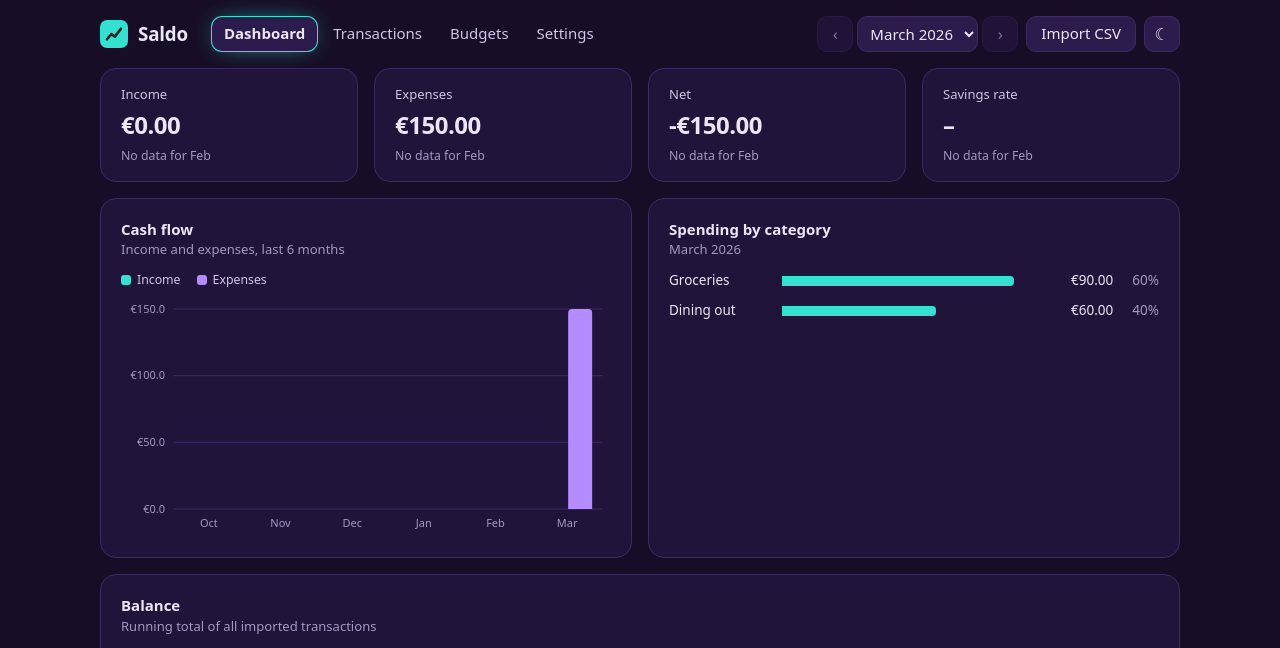
Test case: adds a budget for a category without one
The image size is (1280, 648).
Step 1. Click the button "Budgets" → (479, 34), box [438, 17, 520, 51]
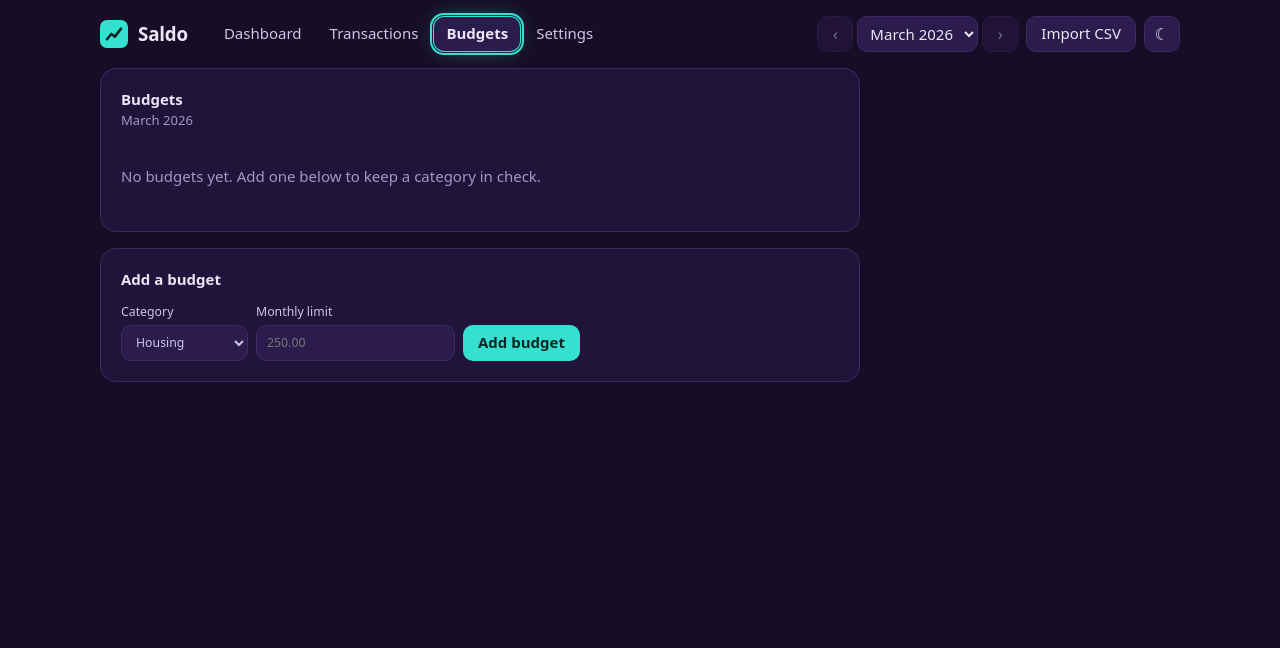
Expected: the text "No budgets yet. Add one below to keep a category in check." is shown, [121, 166, 541, 186]
Step 2. Click the button "Add budget" → (522, 343), box [463, 325, 580, 361]
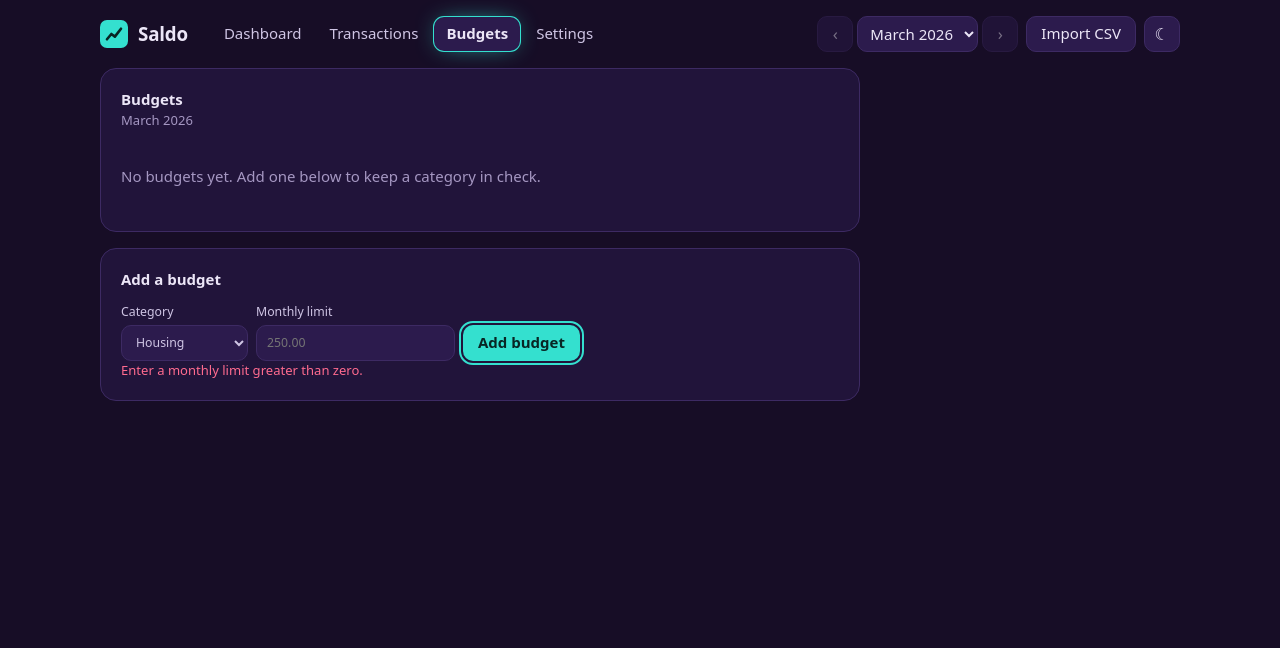
Expected: the message shows "greater than zero", [121, 361, 363, 379]
Step 3. Select "Groceries" in the dropdown labelled "Category" → (184, 343), box [121, 325, 248, 361]
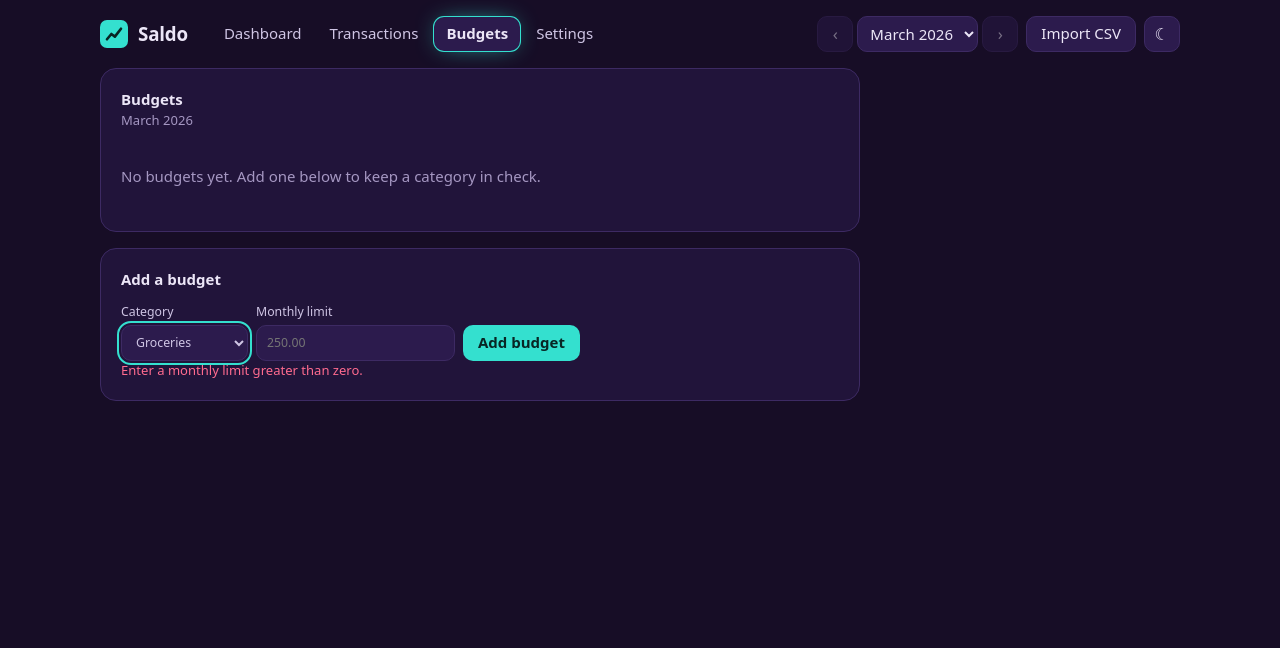
Step 4. Type "200" into the field labelled "Monthly limit" → (356, 343), box [256, 325, 455, 361]
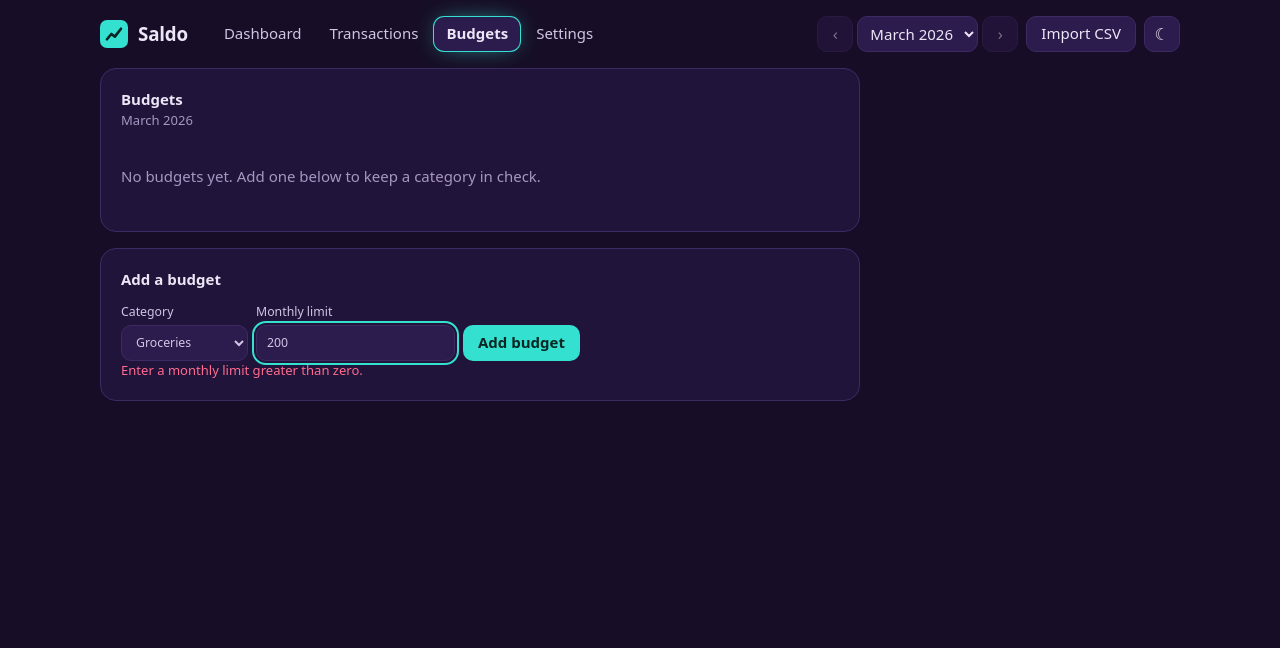
Step 5. Click the button "Add budget" → (522, 343), box [463, 325, 580, 361]
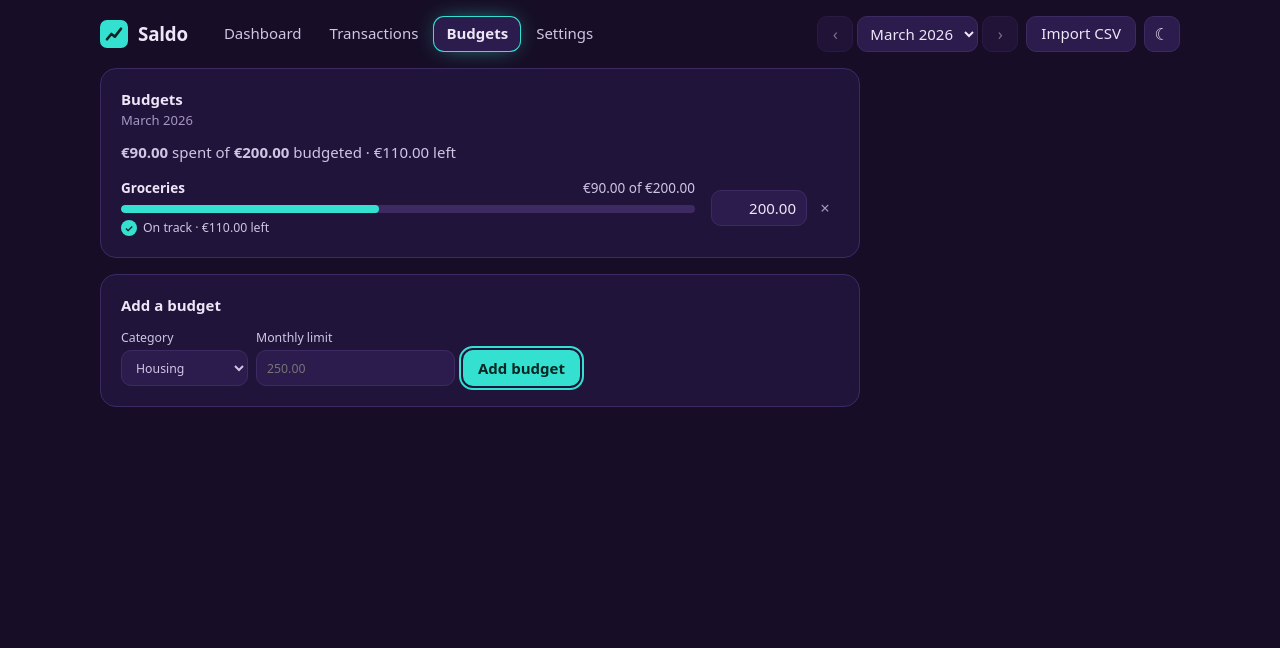
Expected: the element named "Groceries budget" is shown, [121, 205, 695, 213]
